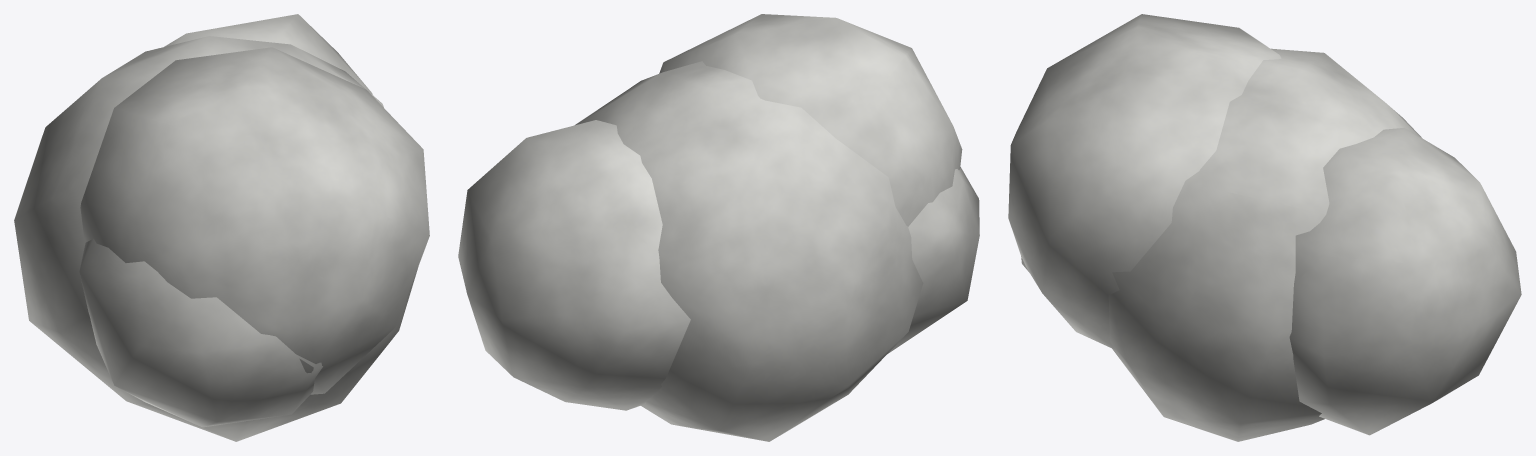
Rendered from ker_v2.glb.
3 views of the same model, side by side, from view 1: azimuth 30°, elevation 25°; view 2: azimuth 150°, elevation 25°; view 3: azimuth 270°, elevation 25° (orthographic). The views are drawn at different scales.
Visible parts, largest first — view 1: dum; view 2: dum; view 3: dum.
Part boxes in pixels (bbox=[...]): dum: bbox=[14, 14, 429, 441]; dum: bbox=[458, 14, 979, 441]; dum: bbox=[1008, 14, 1521, 441].
Size of the model in its own units: 1.08 by 1.01 by 1.27.
Materials: 1 (1 with a texture image).
